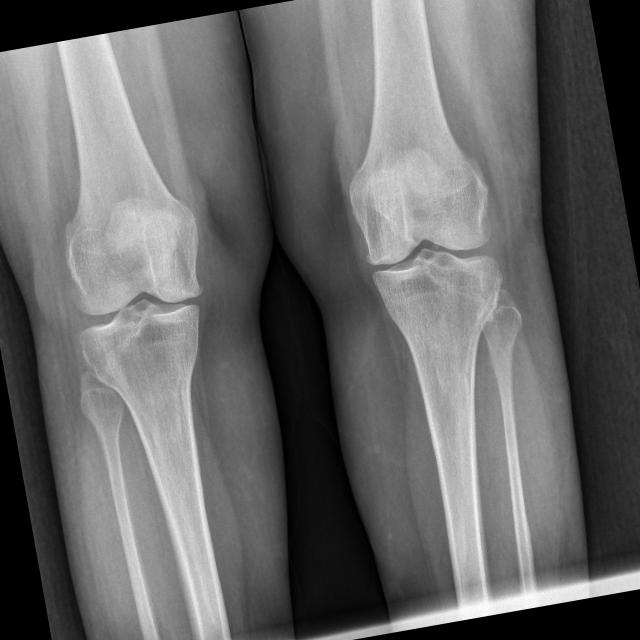Knee: (59, 238, 217, 386), (348, 186, 508, 330)
